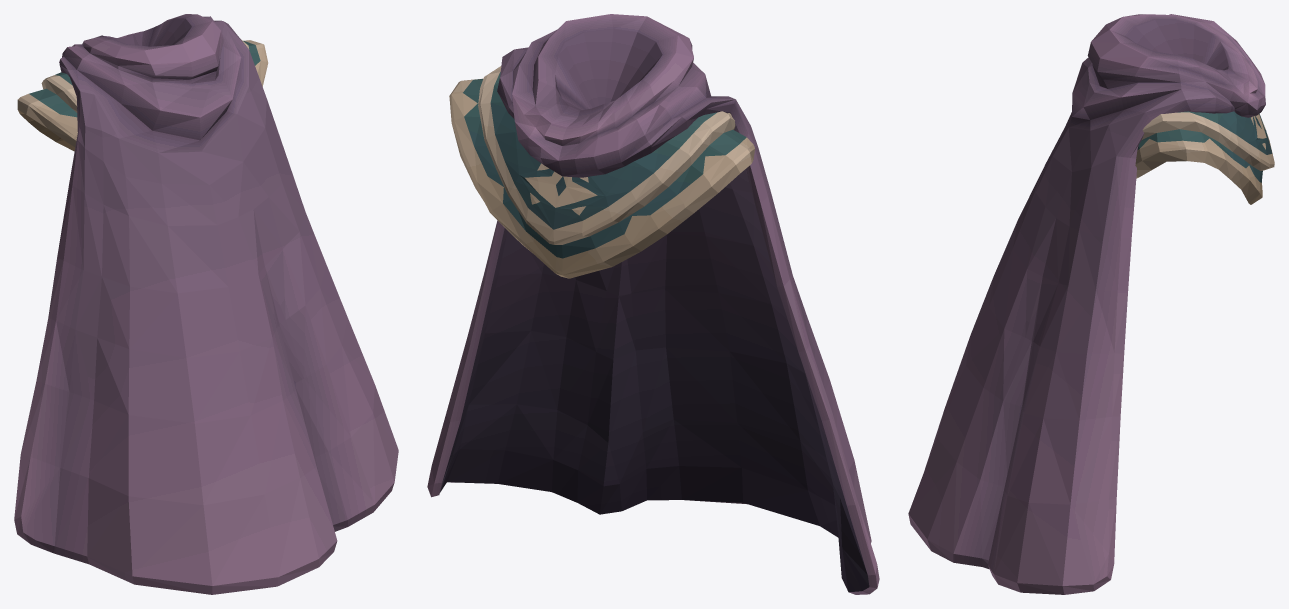
File: CharSkyKid_Wing_AP27GuardCape.glb
3 renders of one model, left to right at view 1: azimuth 30°, elevation 25°; view 2: azimuth 150°, elevation 25°; view 3: azimuth 270°, elevation 25°, orthographic. The views are drawn at different scales.
Parts seen in each view (by area): view 1: CharSkyKid_Wing_AP27GuardCape; view 2: CharSkyKid_Wing_AP27GuardCape; view 3: CharSkyKid_Wing_AP27GuardCape.
Boxes of the visible parts, x1,y1,x2,y2 form: CharSkyKid_Wing_AP27GuardCape: [14, 14, 398, 594]; CharSkyKid_Wing_AP27GuardCape: [427, 14, 879, 594]; CharSkyKid_Wing_AP27GuardCape: [908, 14, 1274, 594].
Size of the model in its own units: 8.15 by 9.9 by 6.64.
Materials: 1 (1 with a texture image).
